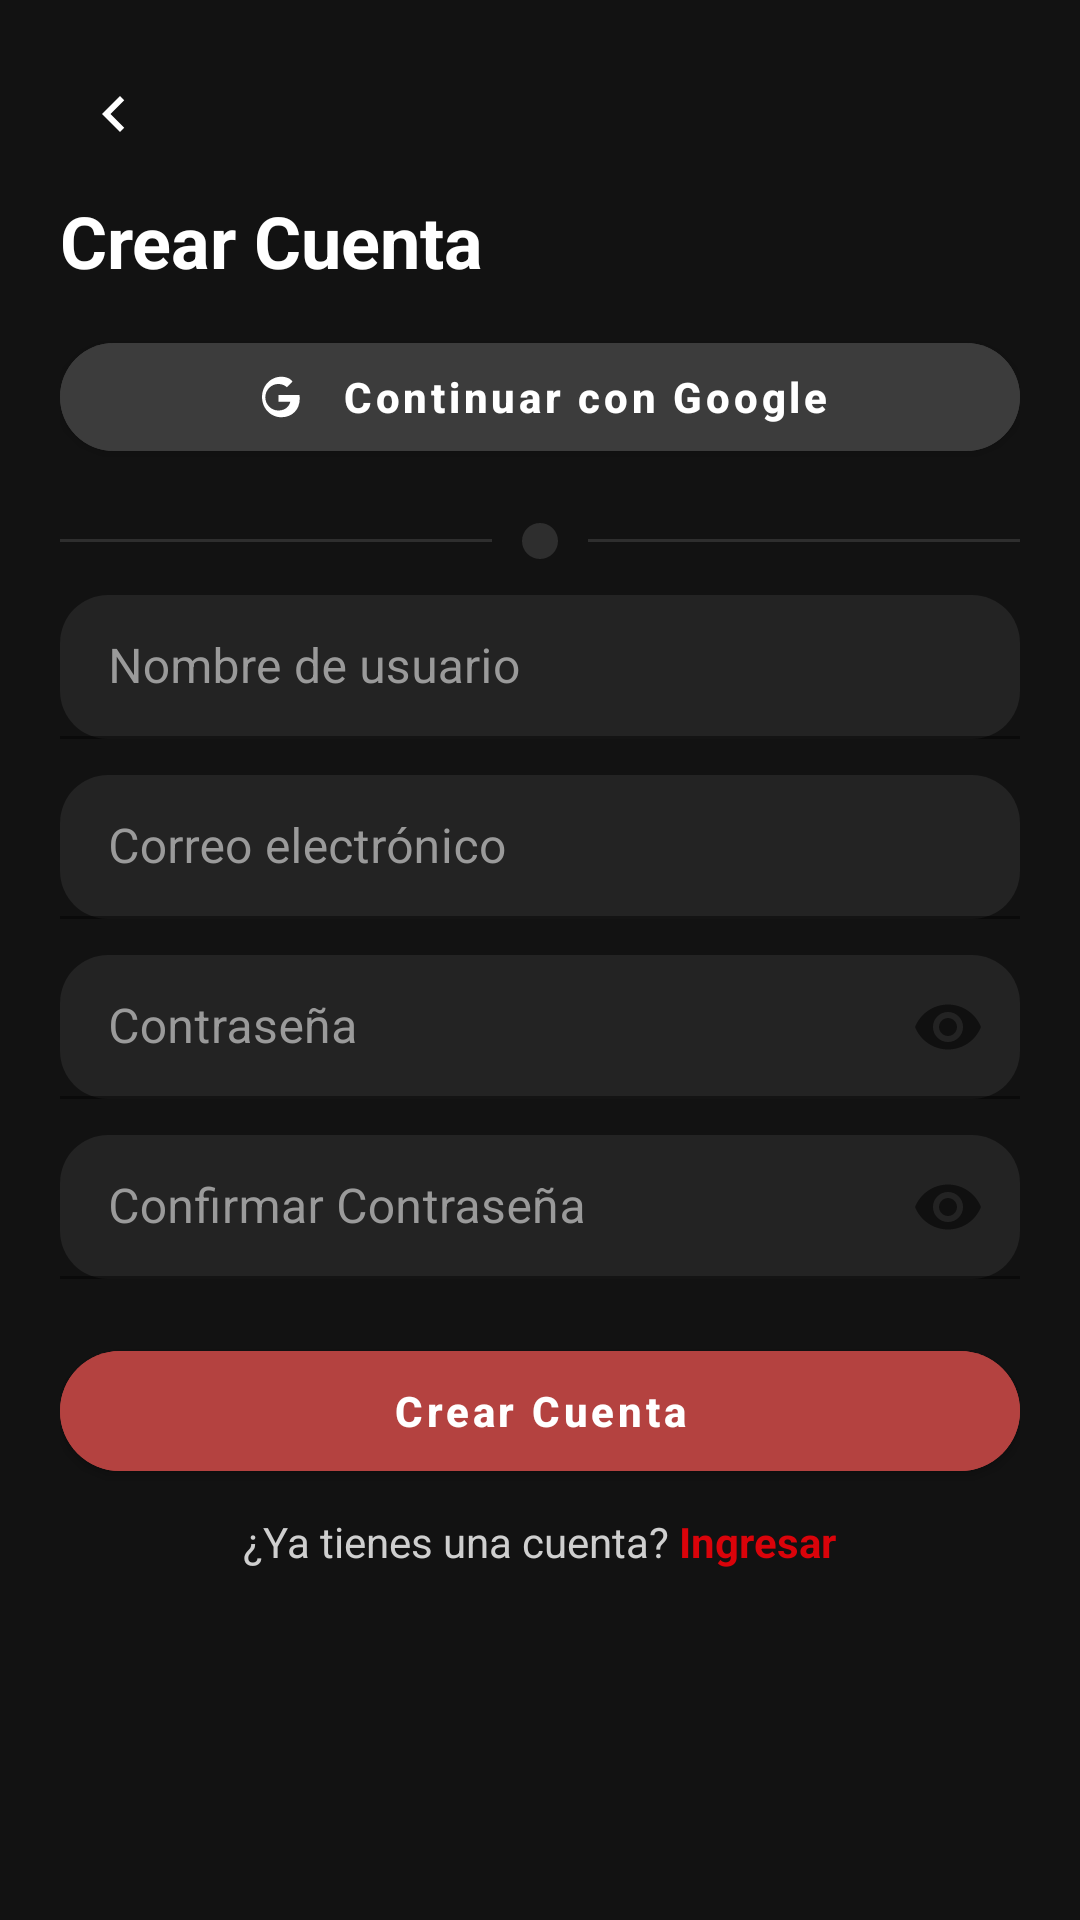

Icon click points for this 1080×1920 phone screenshot, format (x=x, y=y):
back chevron: (x=113, y=114)
